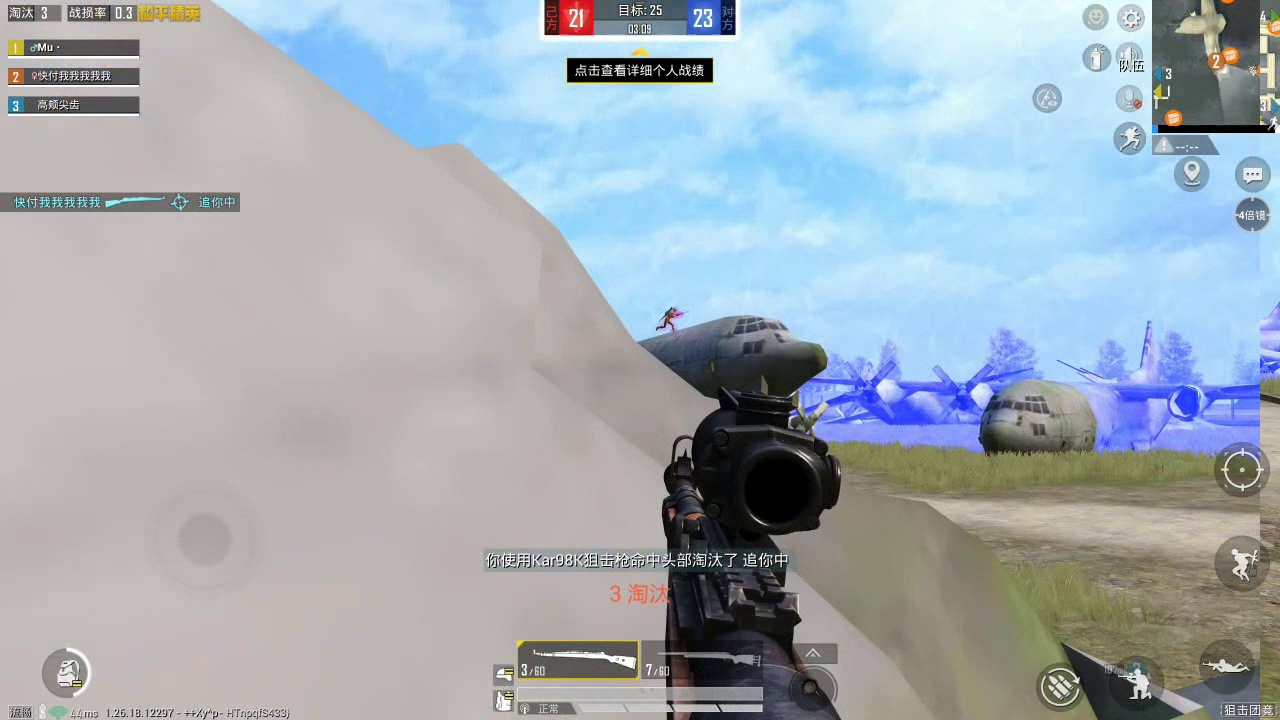enemy: (656, 305, 683, 334)
